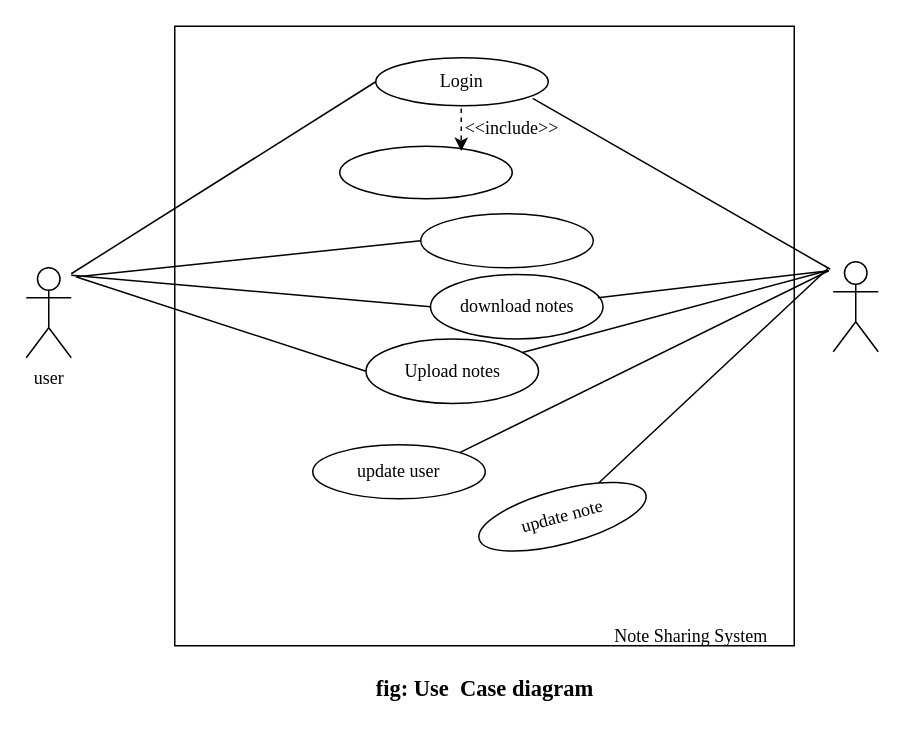
Image size: 906x737. Some labels were removed from this diagram. Here are the shapes that lost their labels. From the top down, the box of each, then its label:
(338, 145, 512, 199): Registration
(419, 212, 593, 268): Search notes
(832, 260, 878, 352): Admin
